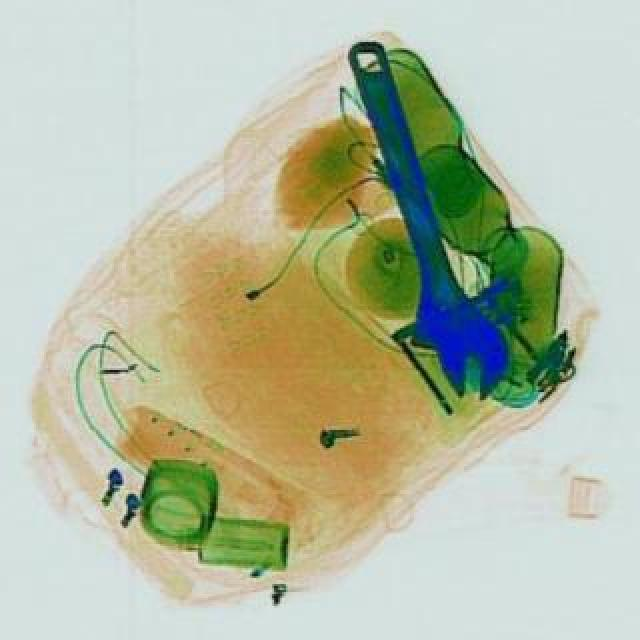scissors: (318, 28, 522, 410)
